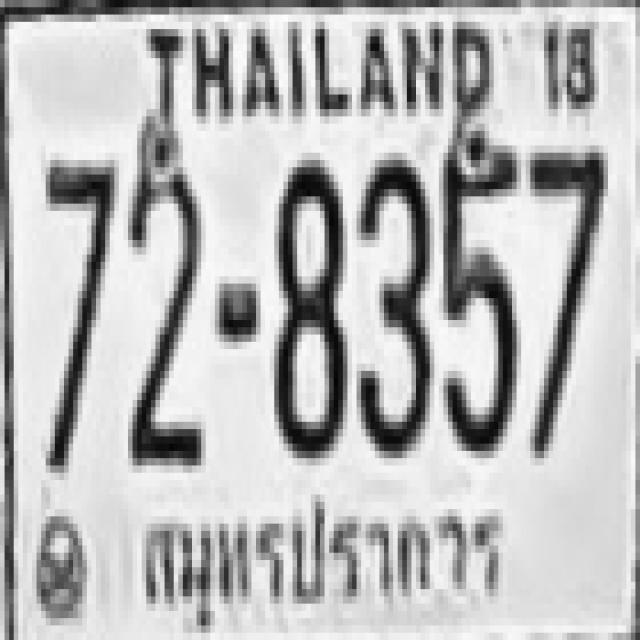2: (126, 156, 199, 462)
3: (354, 153, 428, 451)
5: (439, 131, 512, 451)
7: (526, 145, 603, 451), (43, 153, 112, 465), (43, 153, 112, 400), (43, 153, 112, 356)
8: (270, 153, 343, 451)
SamutPrakan: (133, 491, 512, 640)
